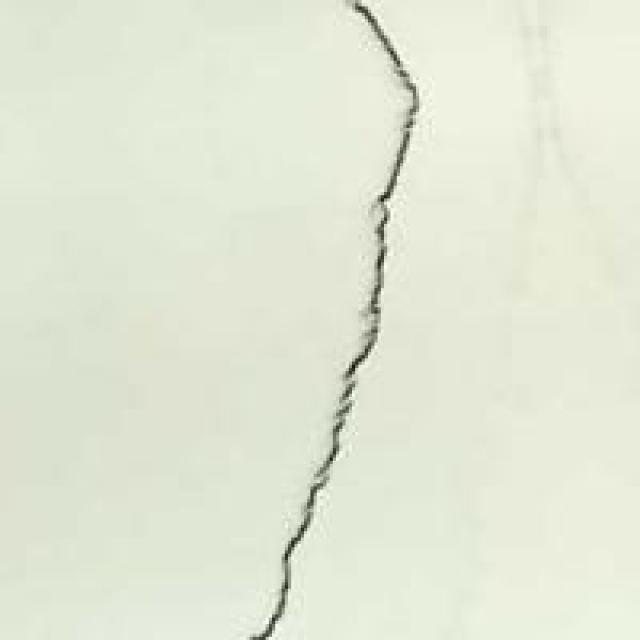Crack: (213, 0, 446, 637)
